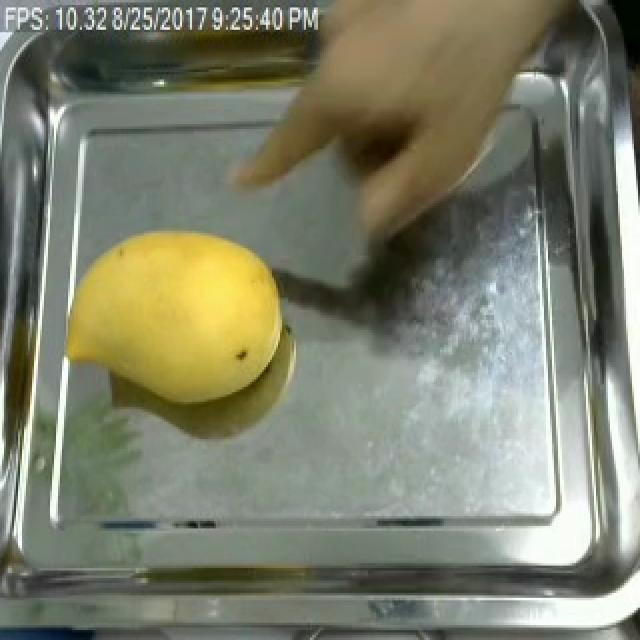fruit: (274, 0, 588, 263), (54, 211, 296, 417)
